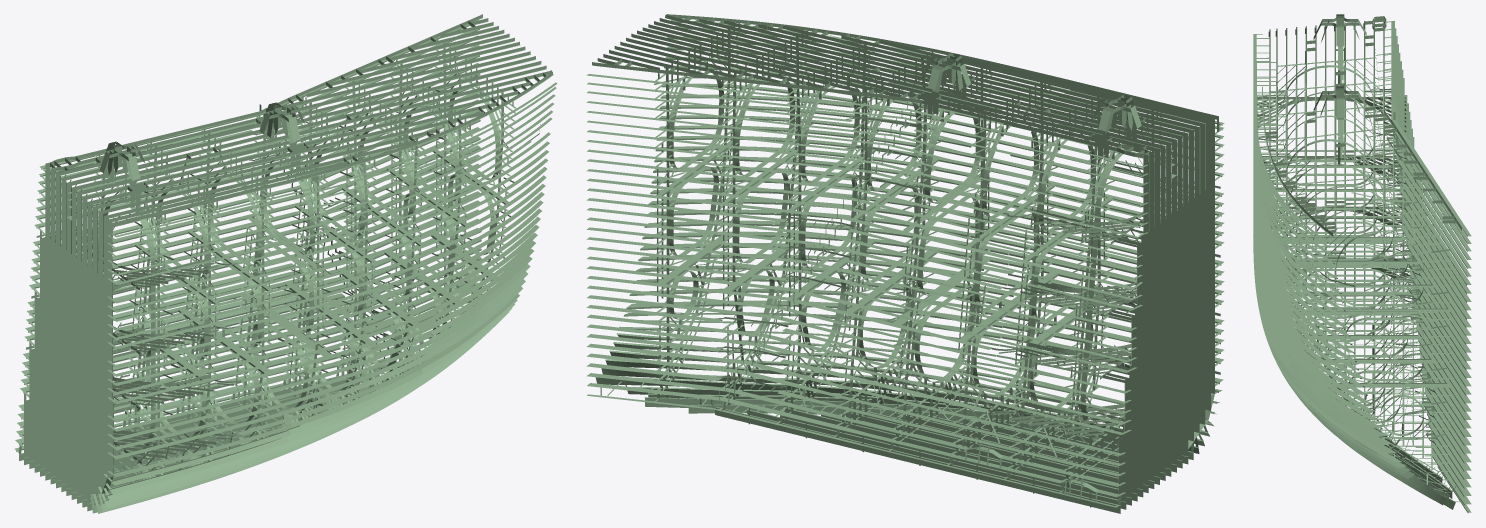
The model's file is NO_1_WING_CARGO_OIL_TK_SB.glb.
The picture shows the model from 3 angles, left to right: view 1: azimuth 30°, elevation 25°; view 2: azimuth 150°, elevation 25°; view 3: azimuth 270°, elevation 25°; orthographic projection. The views are drawn at different scales.
Size of the model in its own units: 47.22 by 31.5 by 20.2.
